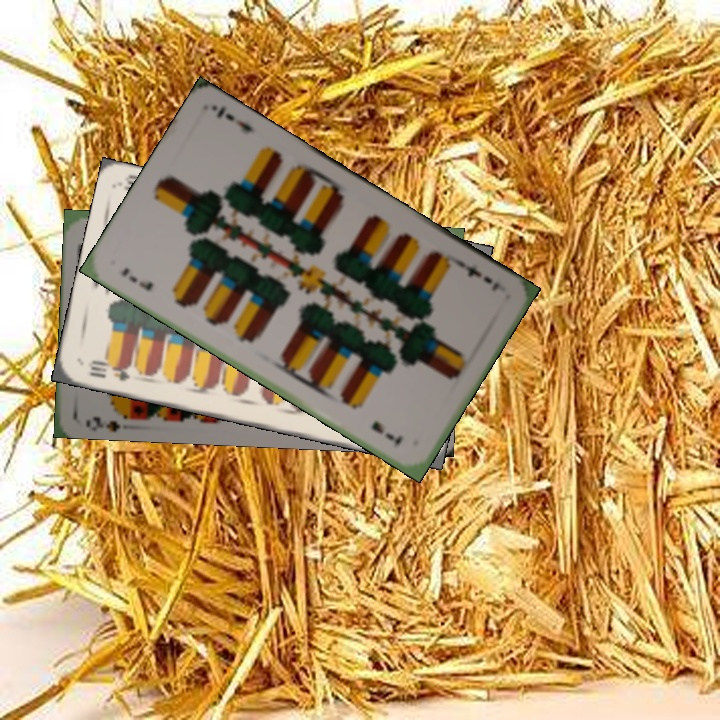E10: (83, 356, 133, 384)
E7: (454, 257, 503, 295), (117, 263, 156, 294)
S9: (82, 405, 138, 432)
